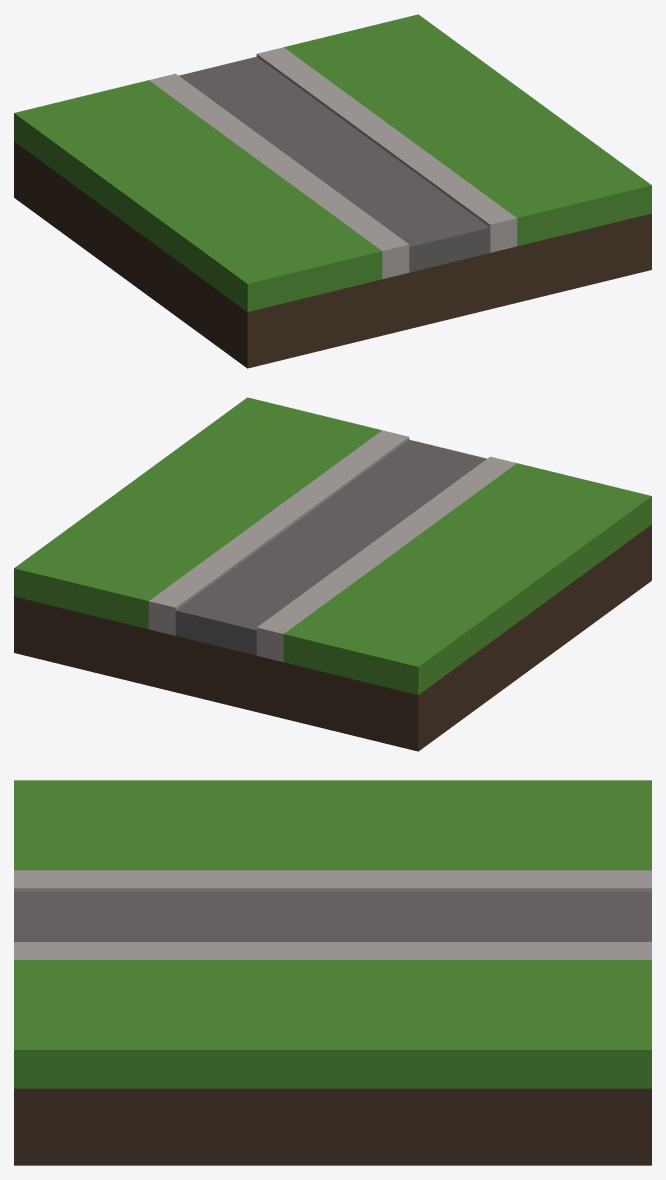
Rendered from tiles-tile-road-straight.glb.
3 views of the same model, one above another, from view 1: azimuth 30°, elevation 25°; view 2: azimuth 150°, elevation 25°; view 3: azimuth 270°, elevation 25° (orthographic). The views are drawn at different scales.
Parts seen in each view (by area): view 1: tile-road-straight; view 2: tile-road-straight; view 3: tile-road-straight.
Boxes of the visible parts, x1,y1,x2,y2 form: tile-road-straight: (14,14,651,368); tile-road-straight: (14,397,651,751); tile-road-straight: (14,780,651,1165).
Bounding box in the file's own units: 30 × 6 × 30.
